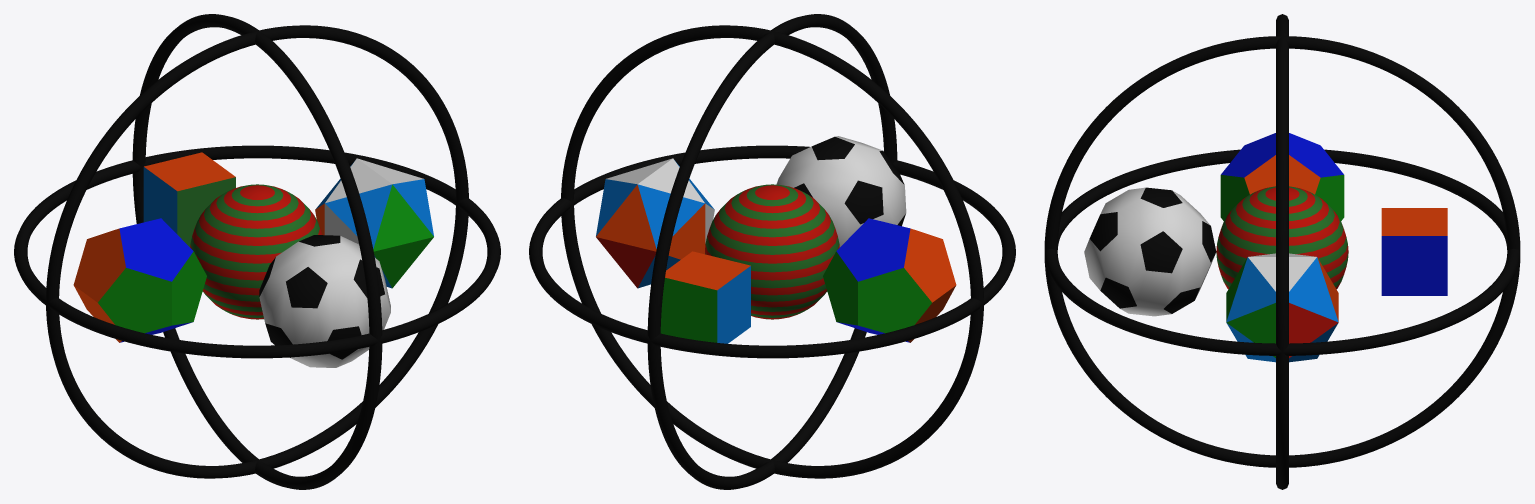
3 renders of one model, left to right at view 1: azimuth 30°, elevation 25°; view 2: azimuth 150°, elevation 25°; view 3: azimuth 270°, elevation 25°, orthographic. The views are drawn at different scales.
Parts seen in each view (by area): view 1: pTorus4, pSolid3, pSolid2, pSphere1, pSolid1, pCube1; view 2: pTorus4, pSphere1, pSolid2, pSolid1, pSolid3, pCube1; view 3: pTorus4, pSolid3, pSolid1, pSphere1, pCube1, pSolid2.
Boxes of the visible parts, x1,y1,x2,y2 form: pTorus4: [14, 14, 500, 489]; pSolid3: [259, 235, 390, 367]; pSolid2: [73, 218, 206, 342]; pSphere1: [190, 184, 322, 319]; pSolid1: [315, 158, 433, 288]; pCube1: [143, 152, 235, 247]; pTorus4: [529, 14, 1015, 489]; pSphere1: [705, 184, 839, 319]; pSolid2: [823, 218, 956, 342]; pSolid1: [596, 158, 714, 288]; pSolid3: [776, 136, 906, 247]; pCube1: [660, 251, 750, 343]; pTorus4: [1044, 14, 1520, 489]; pSolid3: [1084, 187, 1216, 316]; pSolid1: [1226, 253, 1338, 362]; pSphere1: [1216, 186, 1348, 289]; pCube1: [1381, 208, 1447, 295]; pSolid2: [1220, 133, 1344, 220].
Size of the model in its own units: 7.2 by 7.2 by 7.2.
